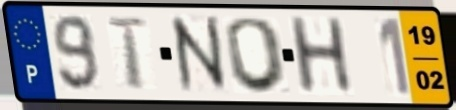1: (374, 15, 413, 100)
9: (51, 13, 104, 94)
H: (285, 15, 357, 97)
N: (165, 13, 233, 97)
O: (223, 15, 291, 96)
T: (104, 15, 152, 92)
